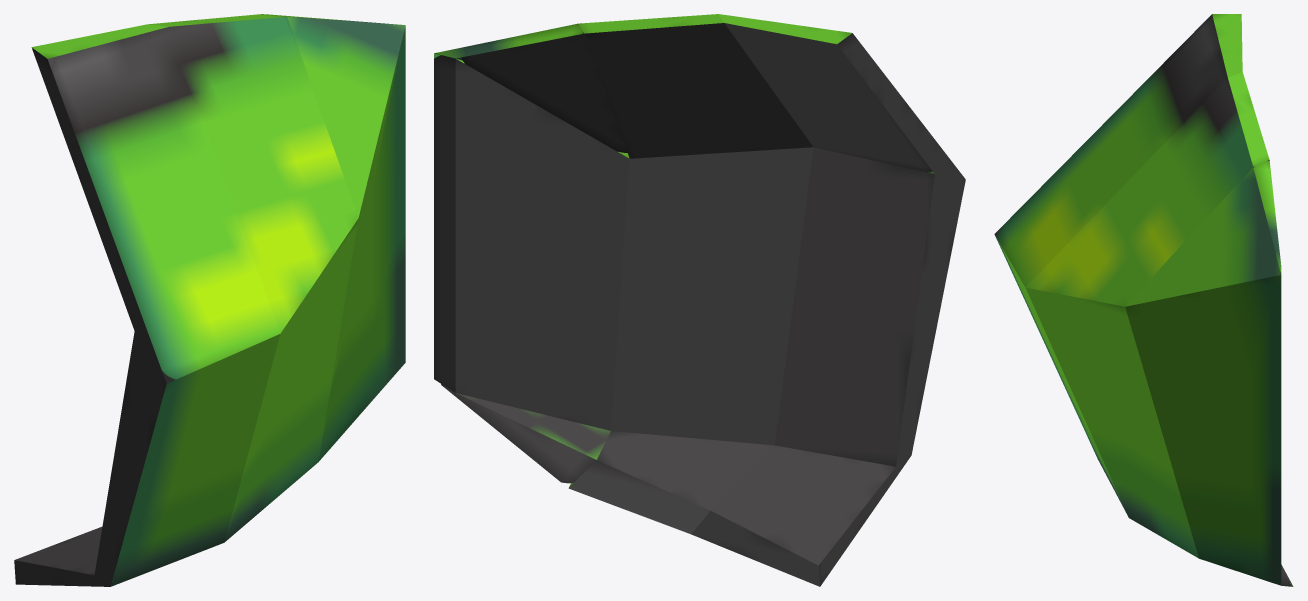
File: coupler_fairing_lh.obj
3 views of the same model, side by side, from view 1: azimuth 30°, elevation 25°; view 2: azimuth 150°, elevation 25°; view 3: azimuth 270°, elevation 25° (orthographic). The views are drawn at different scales.
Visible parts, largest first — view 1: 车钩整流罩; view 2: 车钩整流罩; view 3: 车钩整流罩.
Part boxes in pixels (bbox=[...]): 车钩整流罩: bbox=[14, 14, 405, 586]; 车钩整流罩: bbox=[434, 14, 965, 586]; 车钩整流罩: bbox=[994, 14, 1293, 586].
Size of the model in its own units: 0.8897 by 1.18 by 0.6326.
